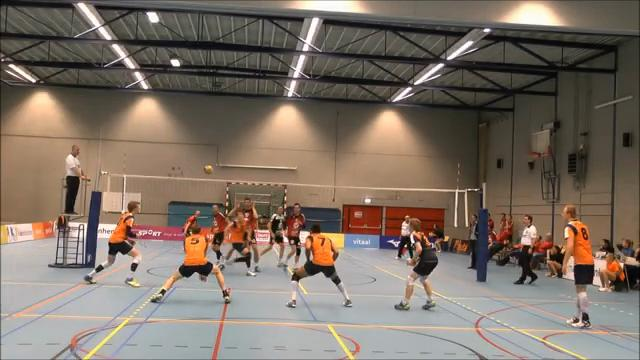ricezione: (148, 222, 235, 306)
